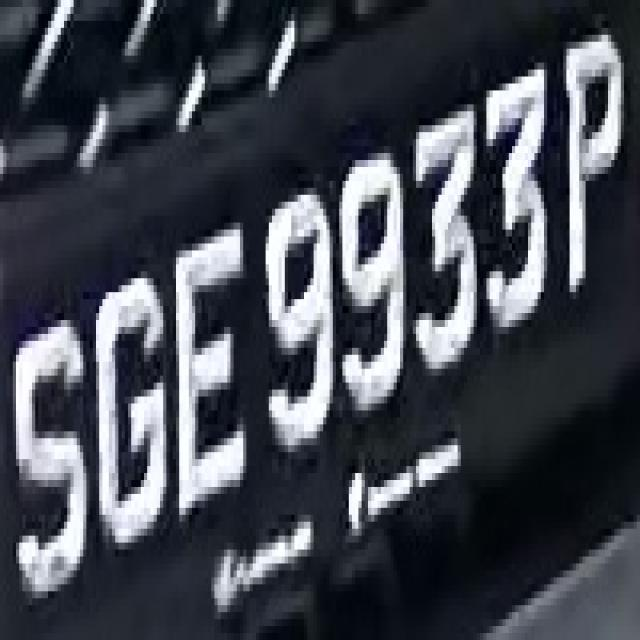3: (406, 90, 480, 376), (474, 62, 547, 341)
9: (253, 153, 342, 452), (324, 146, 406, 445)
E: (164, 215, 246, 542)
G: (80, 250, 166, 550)
P: (564, 35, 630, 299)
S: (10, 285, 96, 598)
